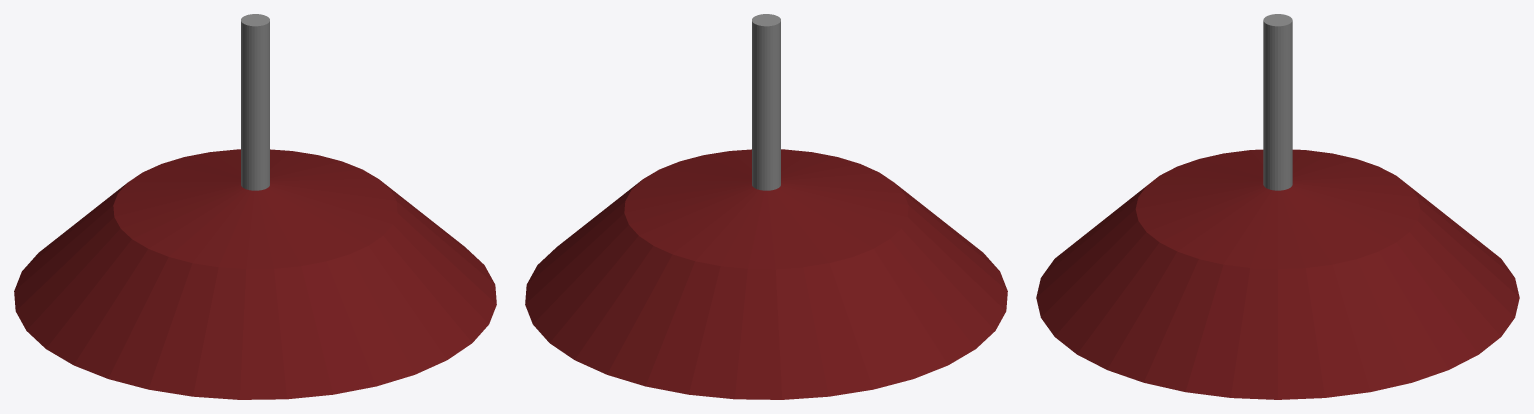
File: LamparaTecho.fbx
3 views of the same model, side by side, from view 1: azimuth 30°, elevation 25°; view 2: azimuth 150°, elevation 25°; view 3: azimuth 270°, elevation 25° (orthographic).
Parts seen in each view (by area): view 1: Cilindro; view 2: Cilindro; view 3: Cilindro.
Boxes of the visible parts, x1,y1,x2,y2 form: Cilindro: (14, 14, 496, 399); Cilindro: (525, 14, 1007, 399); Cilindro: (1036, 14, 1519, 399).
Size of the model in its own units: 1160 by 763 by 1160.
